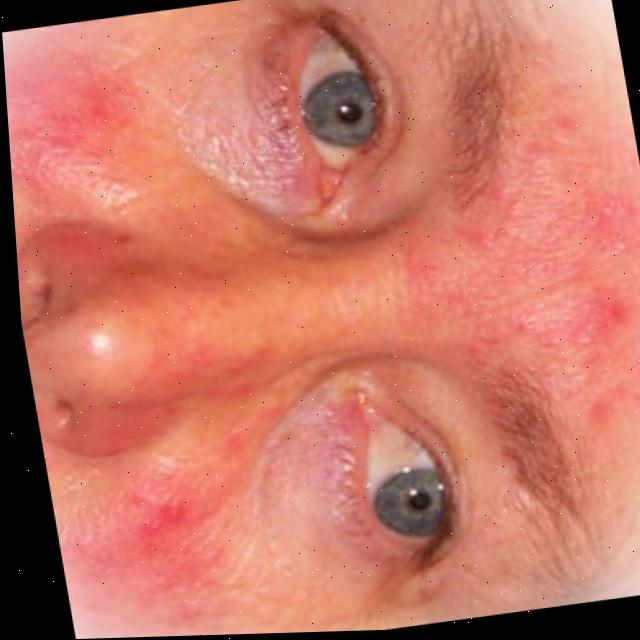Rosacea: (423, 111, 640, 415), (78, 427, 283, 627), (9, 53, 138, 165)
